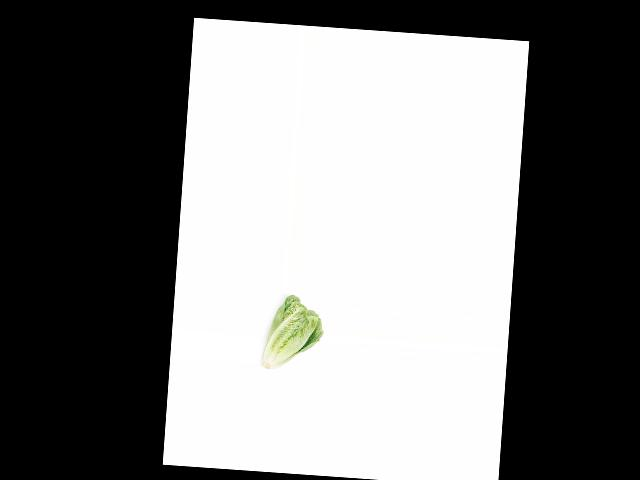lettuce: (259, 293, 325, 373)
